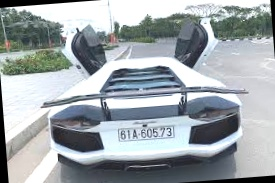Bien-so: (112, 125, 164, 138)
